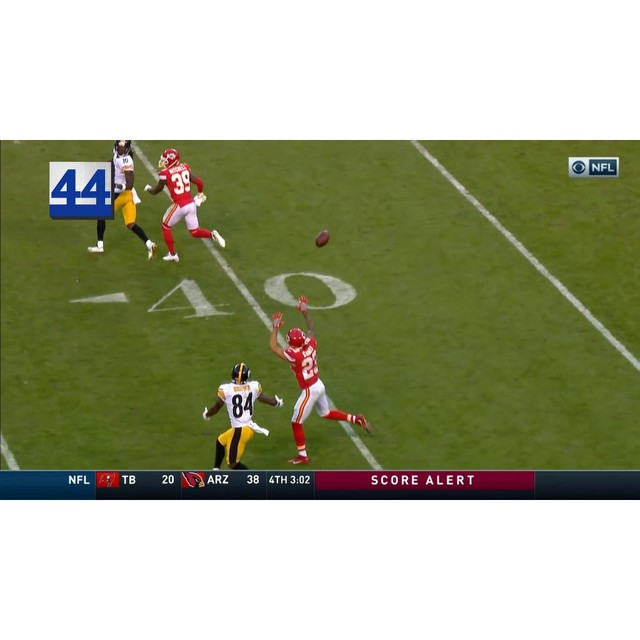american-football-player: (271, 297, 374, 467), (145, 148, 224, 263), (202, 362, 283, 471), (89, 141, 158, 261)
